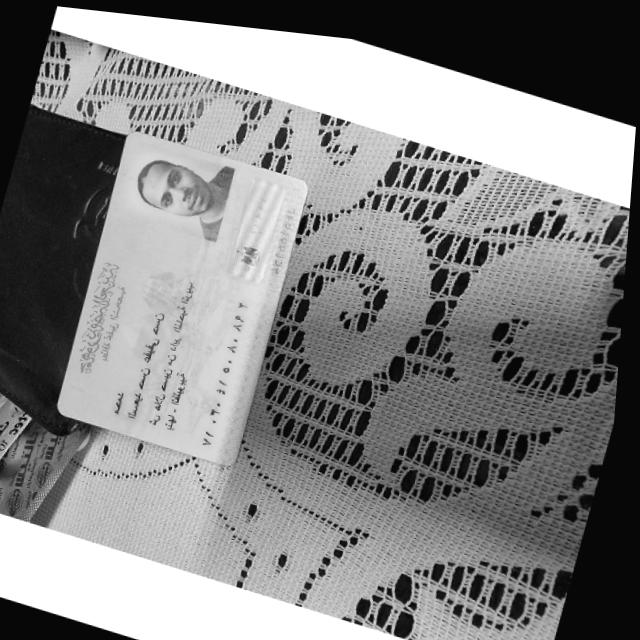front: (55, 119, 316, 474)
